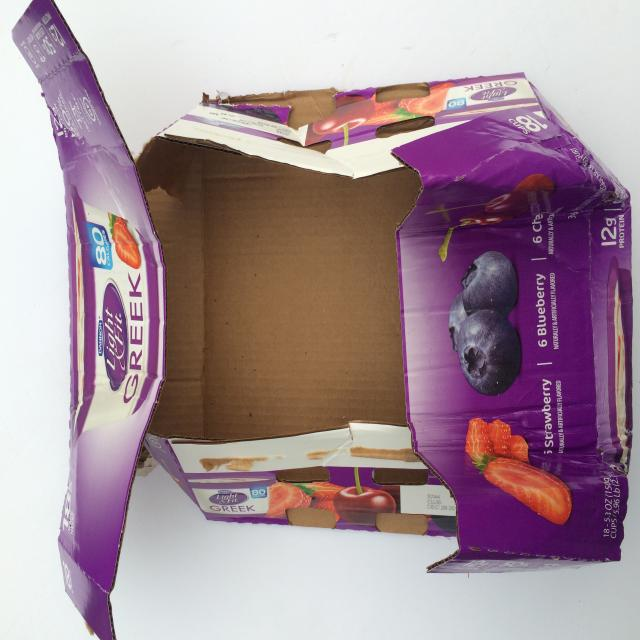cardboard: (6, 0, 637, 640)
